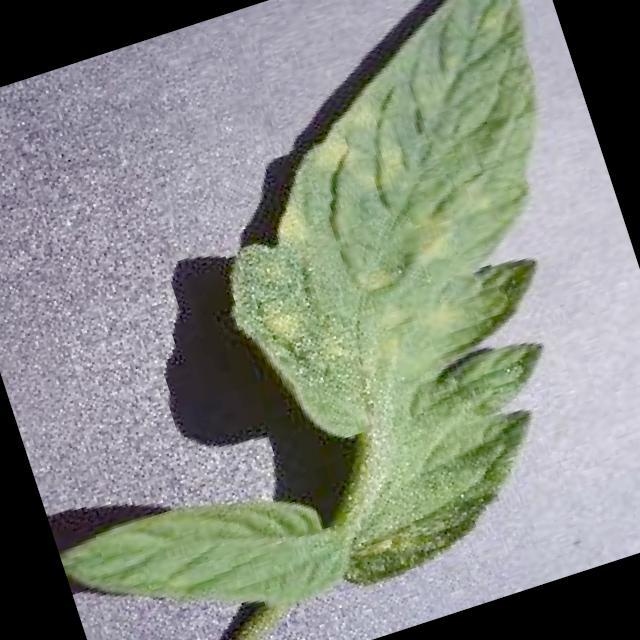Tomato mold leaf: (152, 0, 640, 599)
